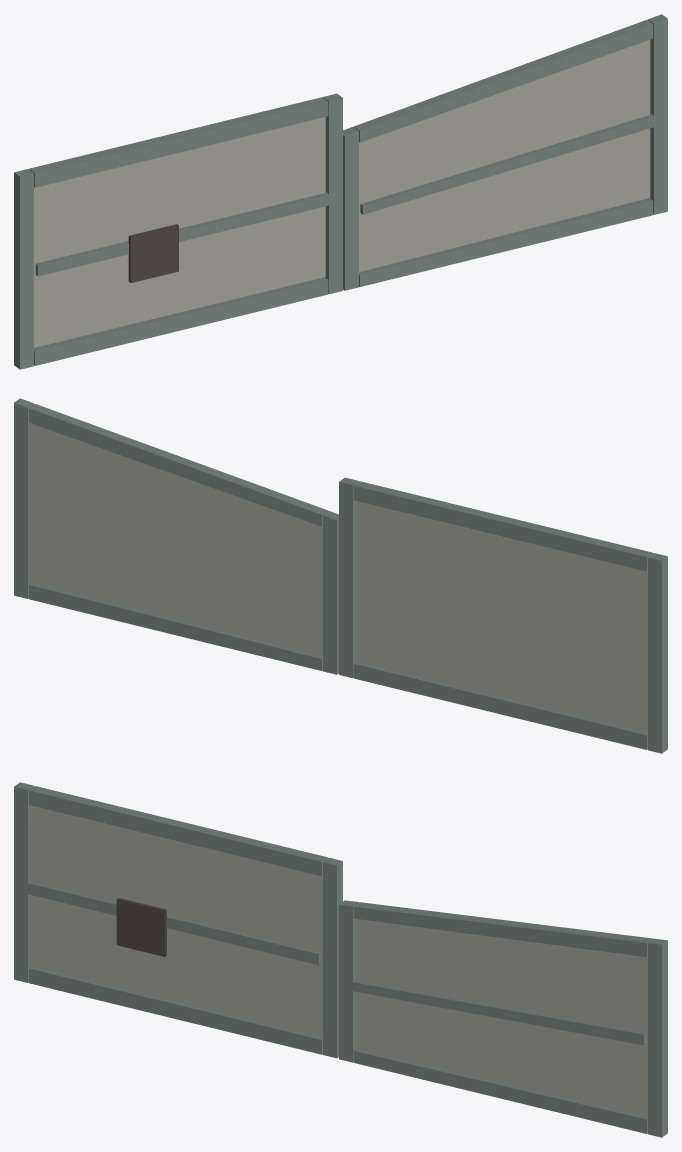
The model's file is SM_PuertaViaDoble_v1_ChapaOndulada_e1_Danado_LOD1.fbx.
3 renders of one model, top to bottom at view 1: azimuth 30°, elevation 25°; view 2: azimuth 150°, elevation 25°; view 3: azimuth 330°, elevation 25°, orthographic.
Visible parts, largest first — view 1: Hoja_O, Hoja_E; view 2: Hoja_O, Hoja_E; view 3: Hoja_O, Hoja_E.
Part boxes in pixels (box(x1,y1,x2,y2)): Hoja_O: box(14, 93, 342, 369); Hoja_E: box(343, 14, 667, 290); Hoja_O: box(339, 477, 667, 753); Hoja_E: box(14, 398, 338, 674); Hoja_O: box(14, 782, 342, 1058); Hoja_E: box(339, 900, 667, 1137).
Size of what is drawn, in the model's own units: 7.38 by 2.1 by 0.2.
